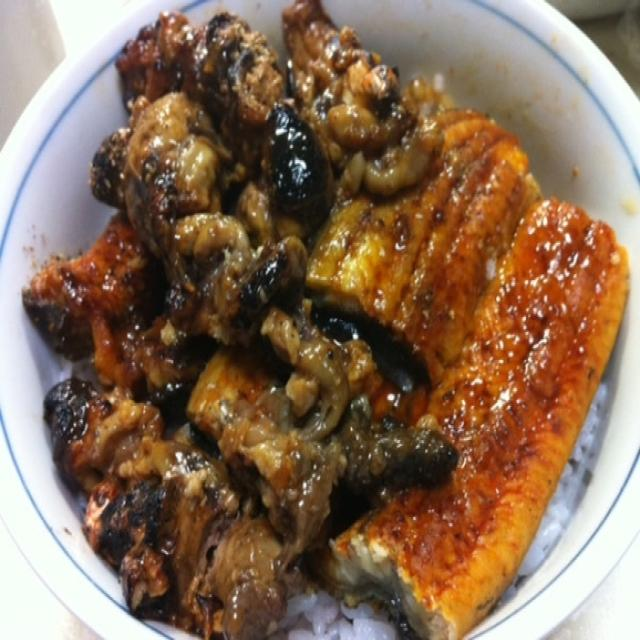熟制海鲜: (3, 2, 631, 631)
